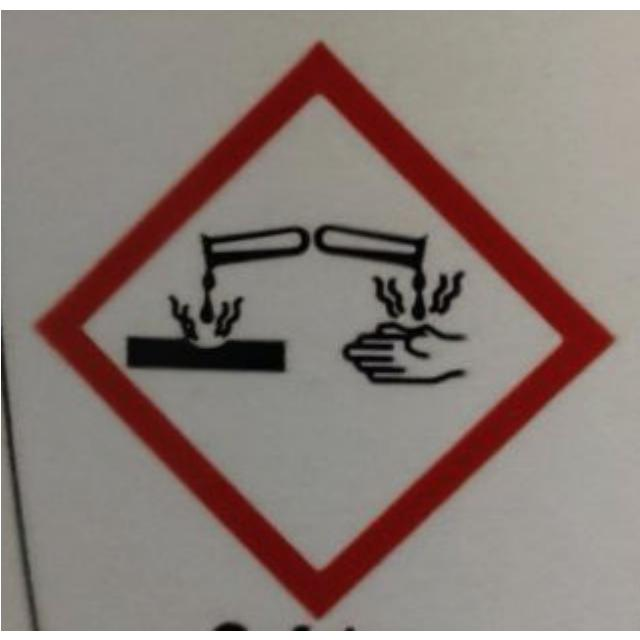corrosive: (126, 222, 468, 384)
